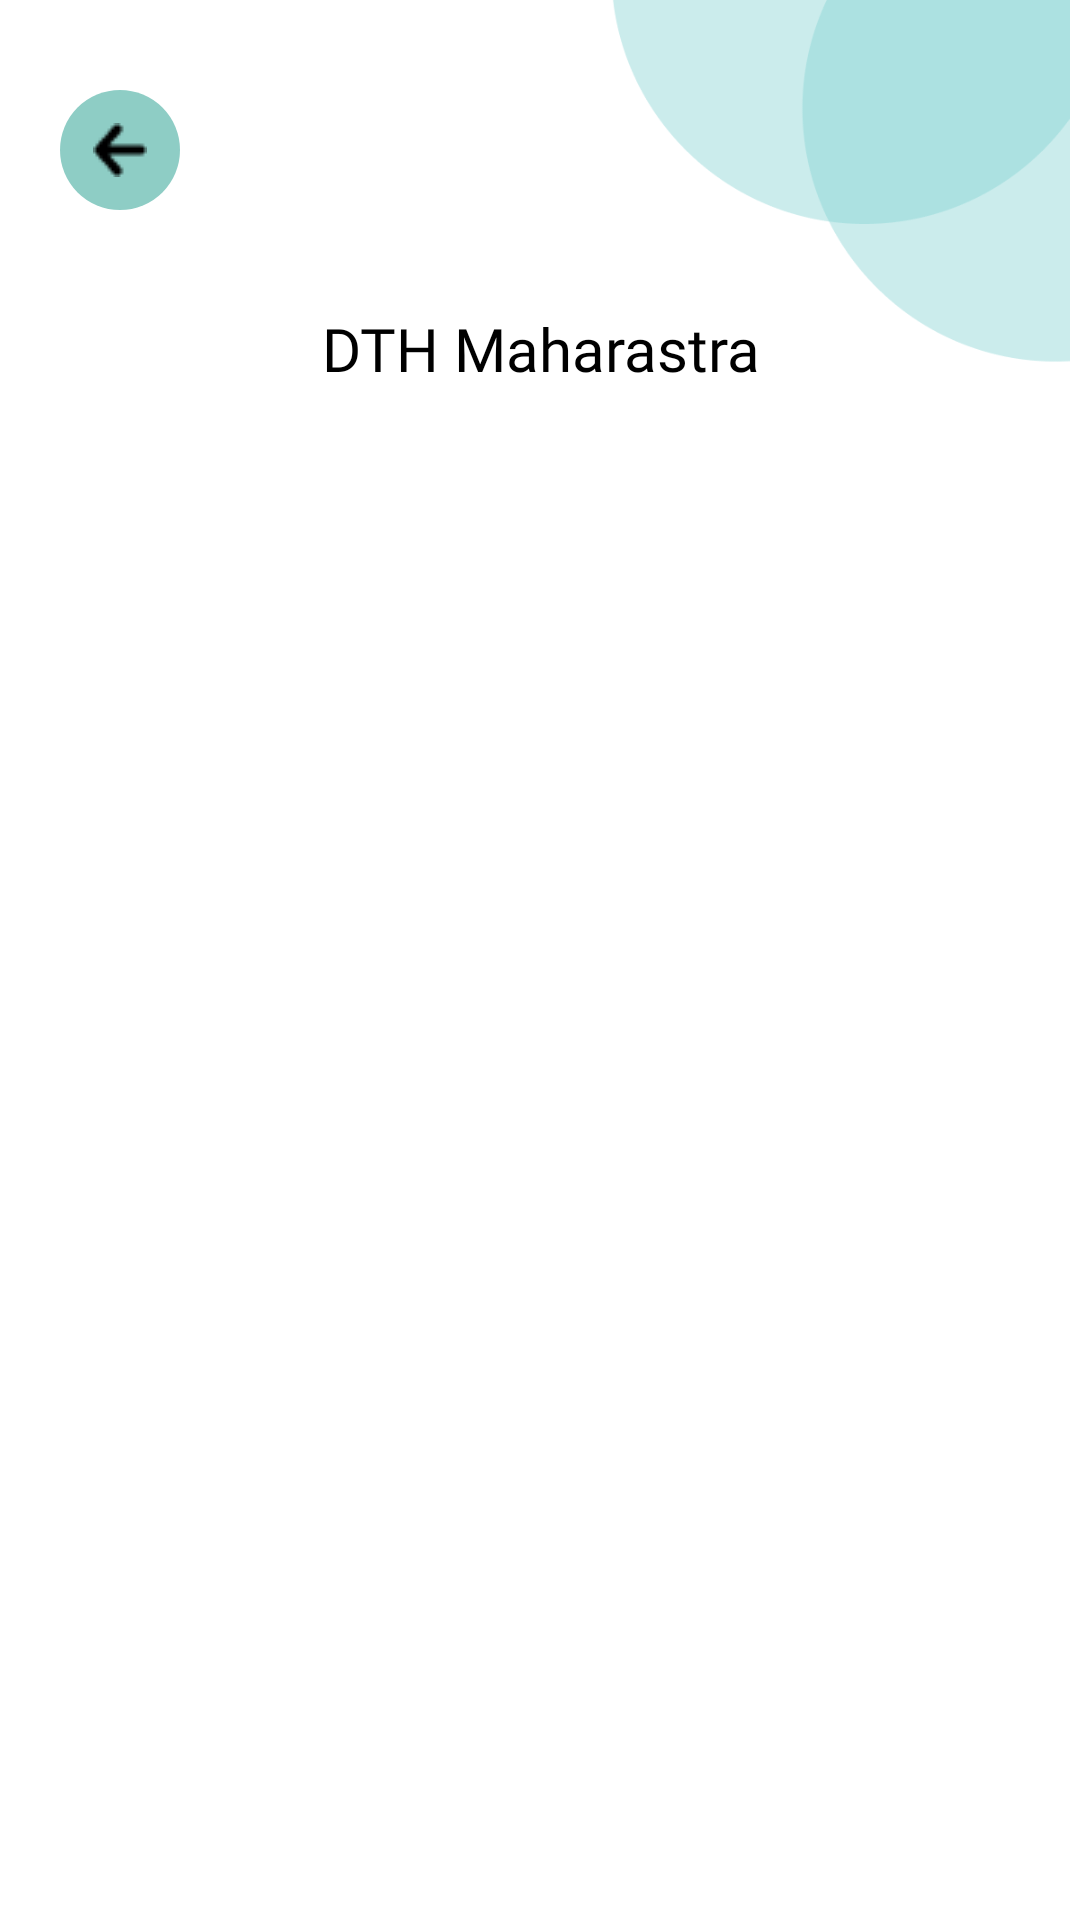

Icon click points for this 1080w x 1920h phone screenshot, format [x,y]:
left arrow: [120,150]
